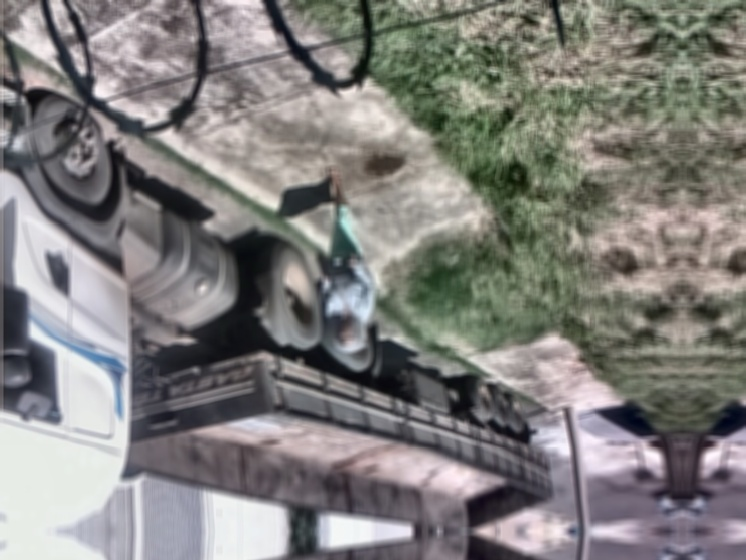person: (321, 163, 375, 352)
